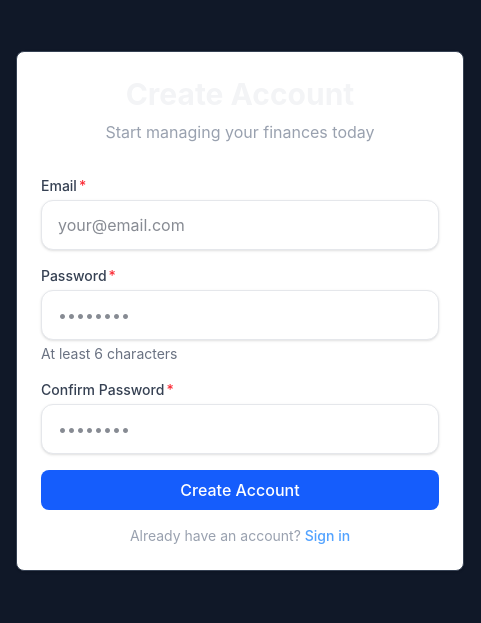
Test case: SignUpPage › shows error on signup failure
Type "dup@test.com" into the field labelled "Email*" at (240, 225), box left=41, top=200, right=439, bottom=250
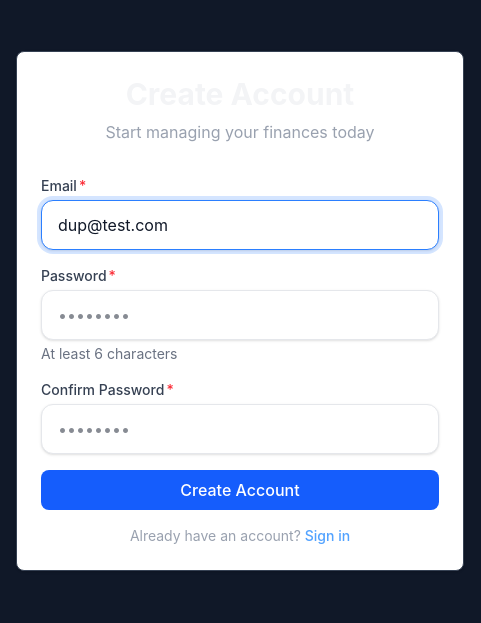
Type "goodpass" into the password field labelled "Password*" at (240, 315), box left=41, top=290, right=439, bottom=340
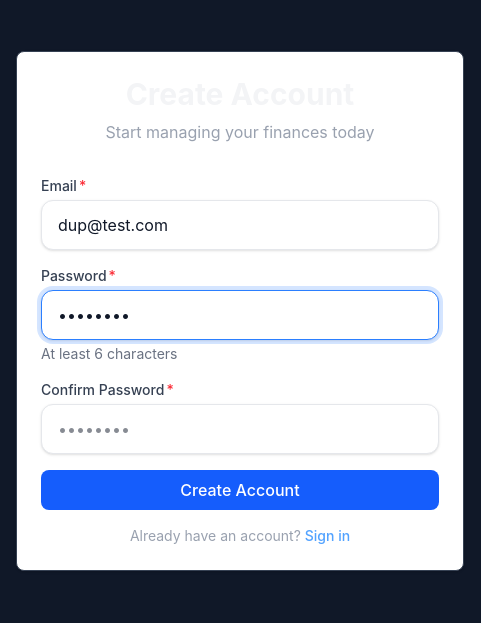
Type "goodpass" into the password field labelled "Confirm Password*" at (240, 429), box left=41, top=404, right=439, bottom=454
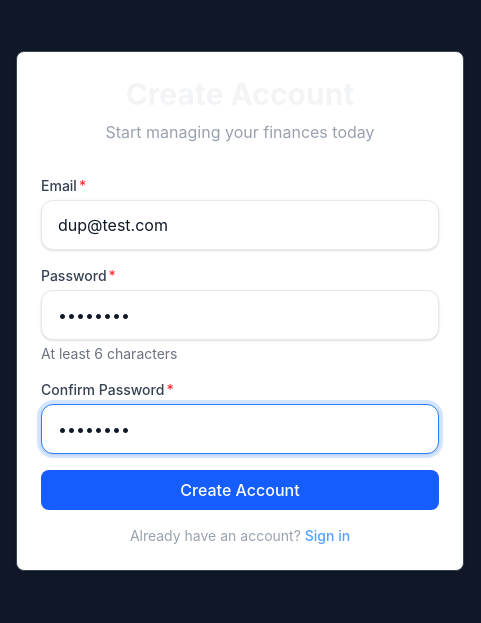
Click the button "Create Account" at (240, 490), box left=41, top=470, right=439, bottom=510
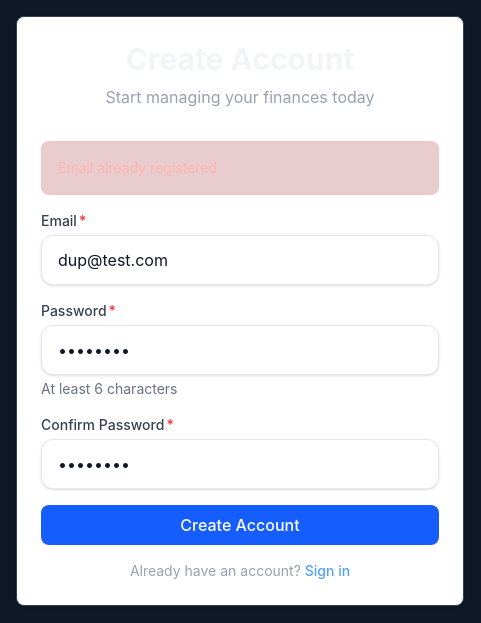
Check: the text "Email already registered" is shown, box left=41, top=141, right=439, bottom=195
